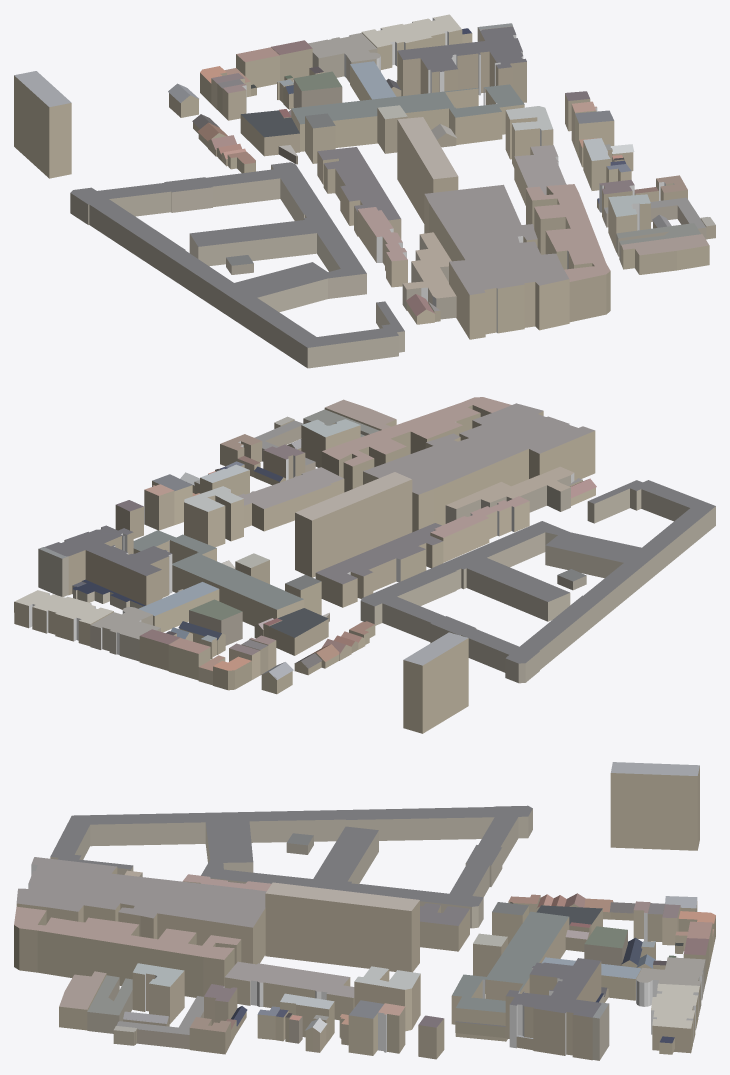
3 renders of one model, top to bottom at view 1: azimuth 30°, elevation 25°; view 2: azimuth 150°, elevation 25°; view 3: azimuth 270°, elevation 25°, orthographic. The views are drawn at different scales.
Visible parts, largest first — view 1: tuile; view 2: tuile; view 3: tuile.
Part boxes in pixels (x1,y1,x2,y2): tuile: [14, 14, 715, 368]; tuile: [14, 397, 715, 733]; tuile: [14, 762, 715, 1060].
Bounding box in the file's own units: 227 × 32.72 × 277.
